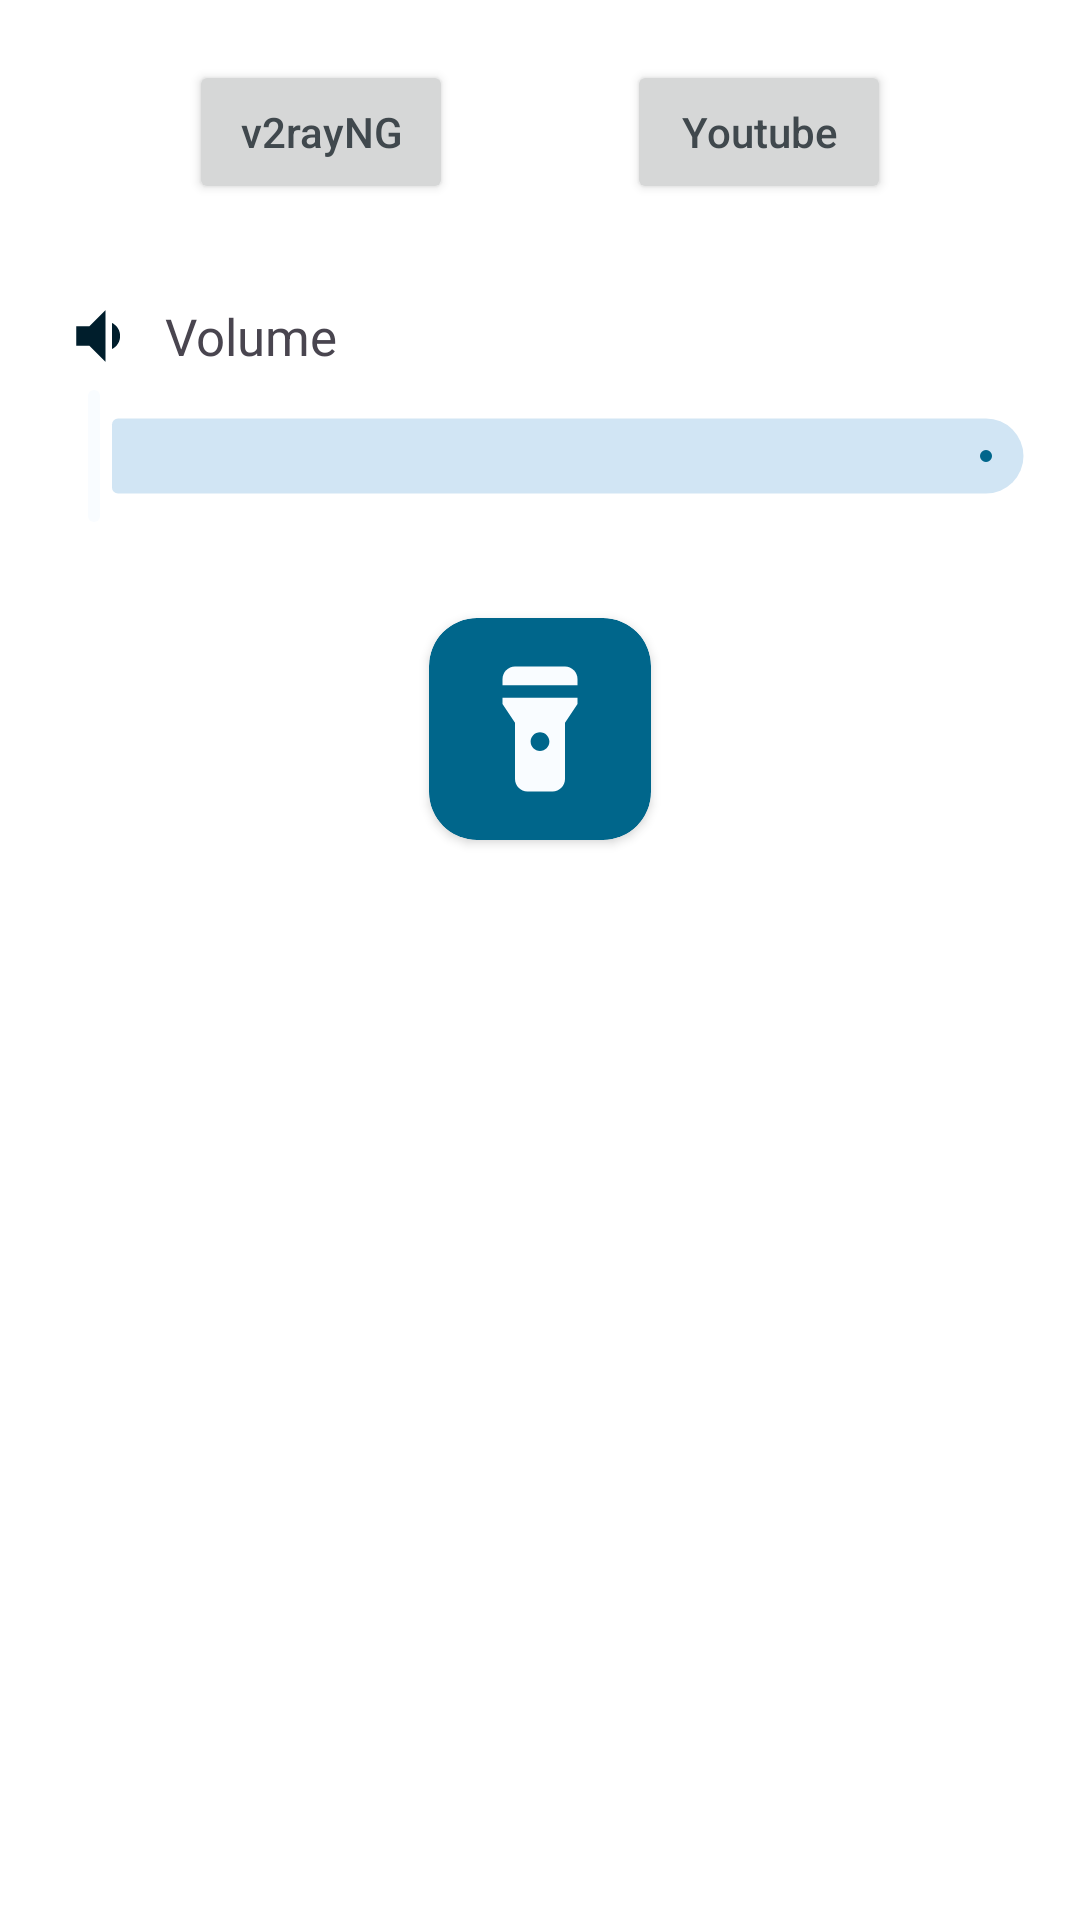

Named icons in this screenshot (1080w x 1920h) and their bounding boxes, Rect(x1, y1, x2, y2):
flashlight on: Rect(502, 666, 578, 792)
